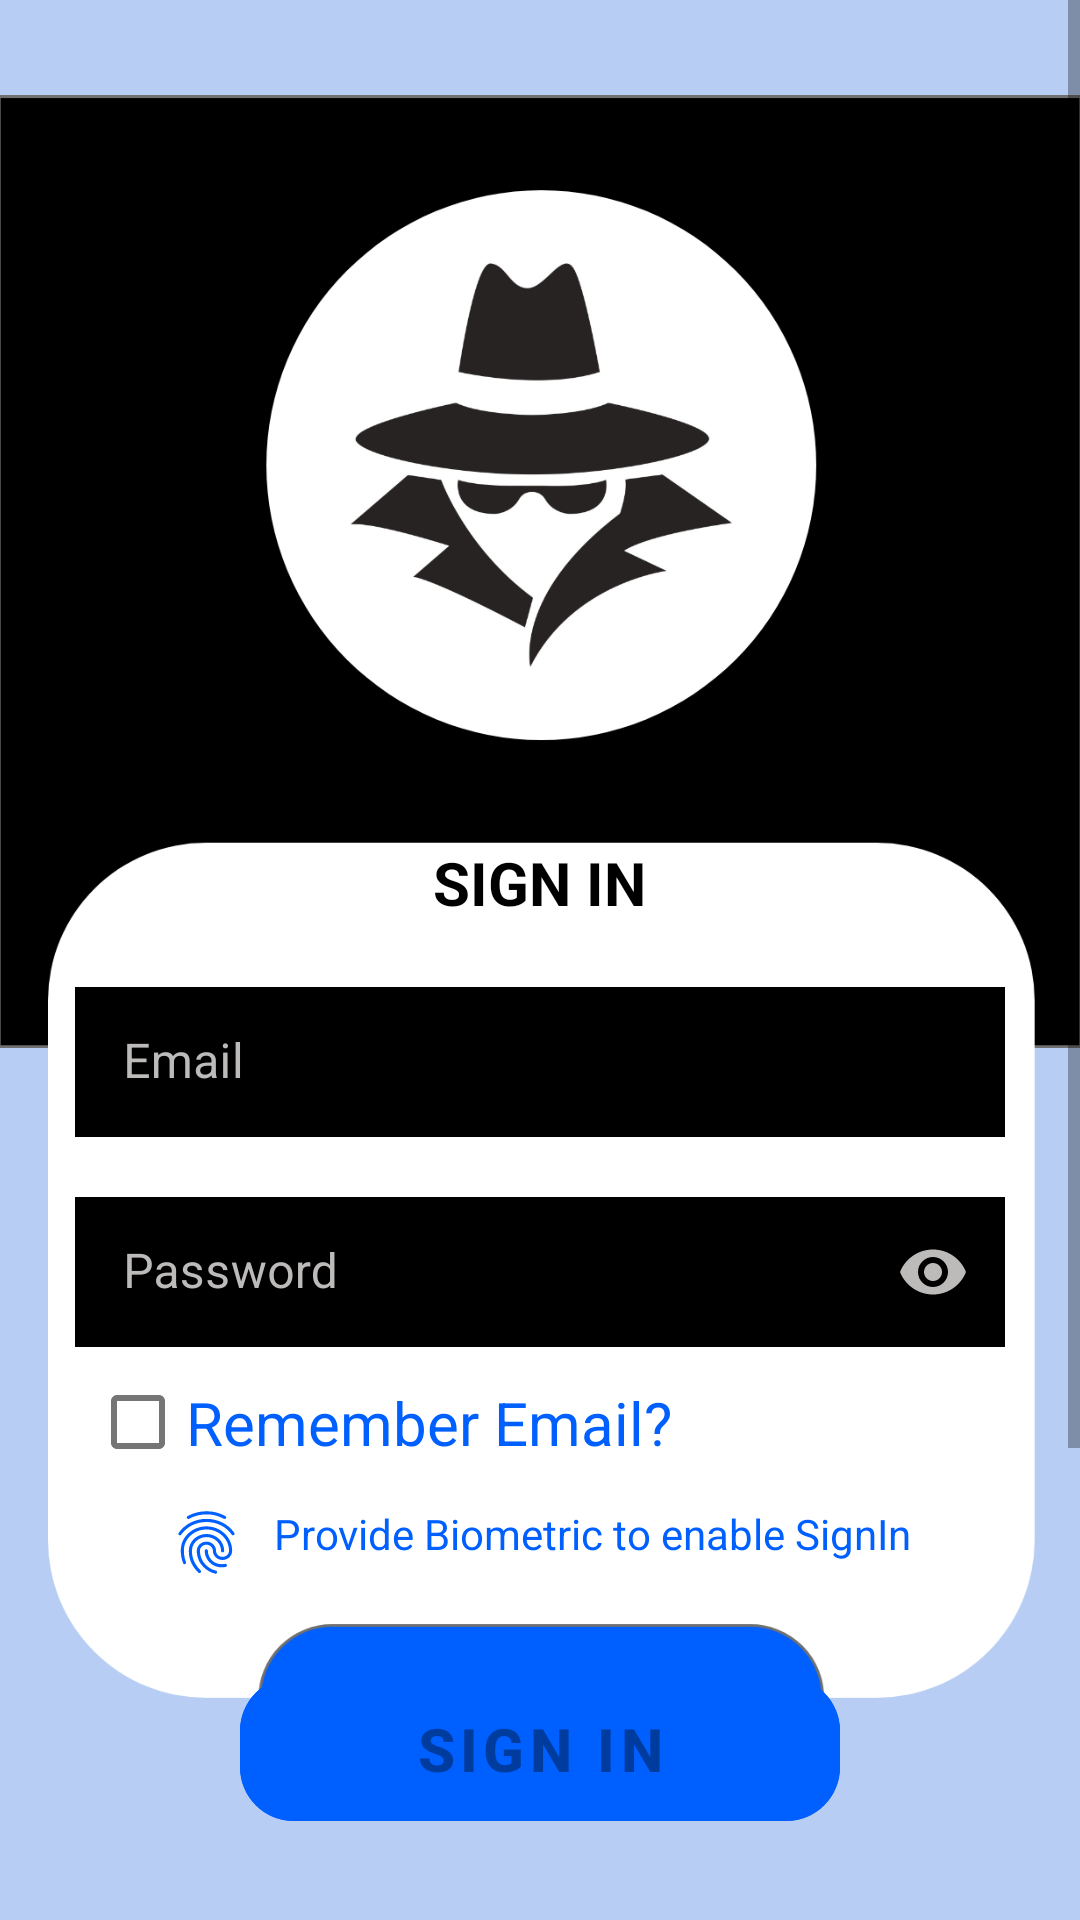

Icon bounding boxes for this 1080x1920 phone screenshot, format (x1,y1,x2,y2):
fingerprint: (178,1511,235,1574)
